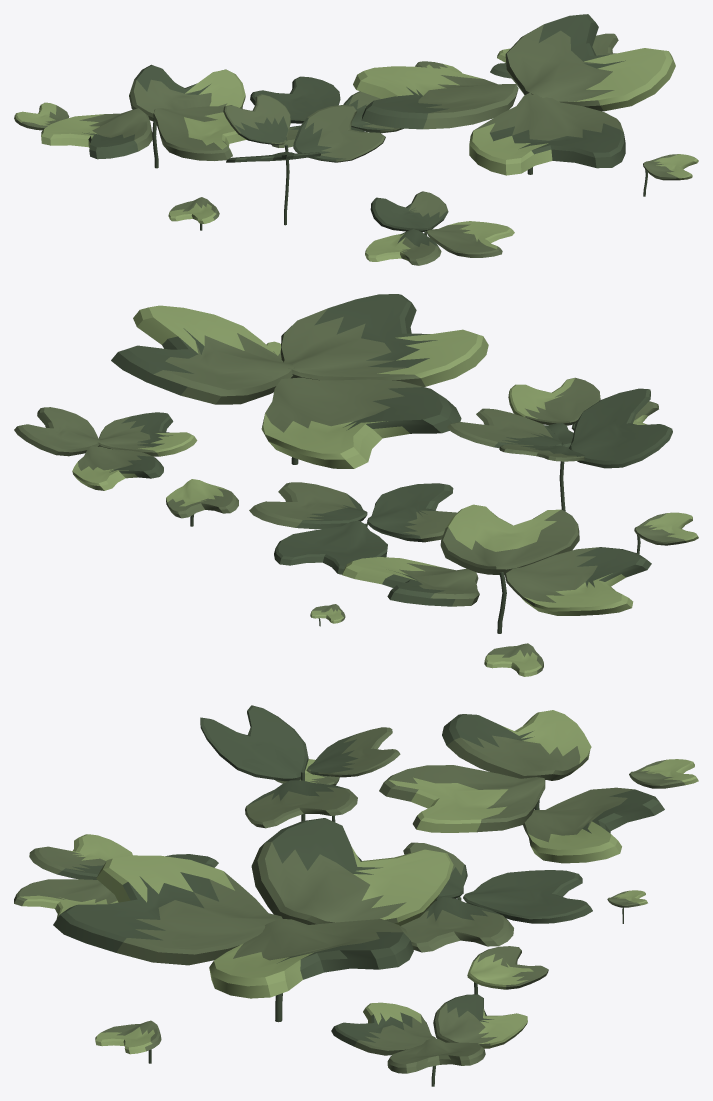
File: Clover Bunch.fbx
3 renders of one model, top to bottom at view 1: azimuth 30°, elevation 25°; view 2: azimuth 150°, elevation 25°; view 3: azimuth 270°, elevation 25°, orthographic. The views are drawn at different scales.
Visible parts, largest first — view 1: Clover_Bunch; view 2: Clover_Bunch; view 3: Clover_Bunch.
Boxes of the visible parts, <box> form: Clover_Bunch: <box>14,14,698,265</box>; Clover_Bunch: <box>14,294,698,676</box>; Clover_Bunch: <box>14,705,698,1086</box>.
Size of the model in its own units: 39.88 by 7.4 by 33.36.
